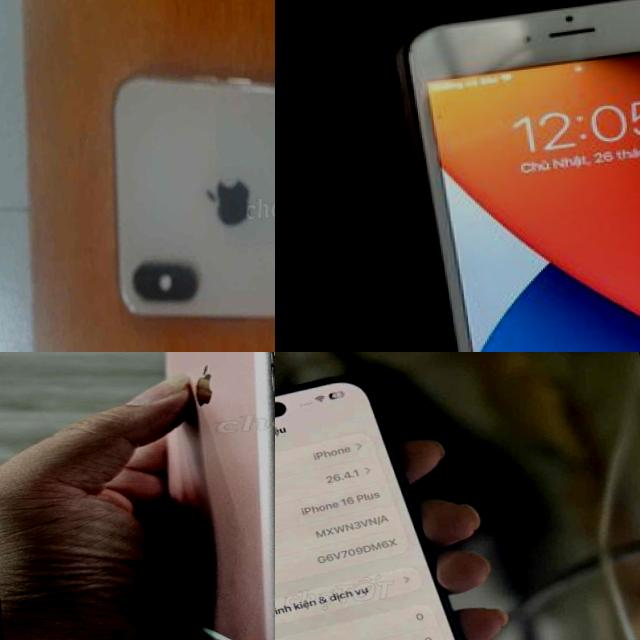gen_16: (275, 380, 462, 640)
gen_6: (388, 0, 640, 352), (163, 352, 275, 640)
gen_x_xs: (87, 42, 275, 352)
